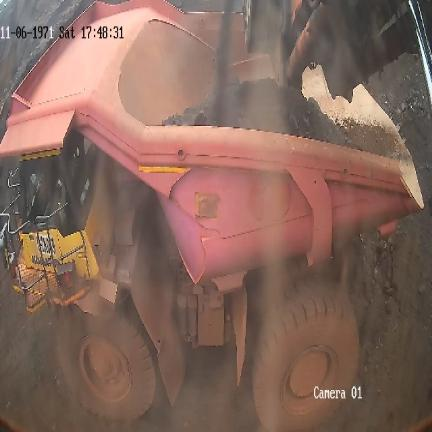pile: (165, 73, 334, 142), (352, 208, 432, 341)
